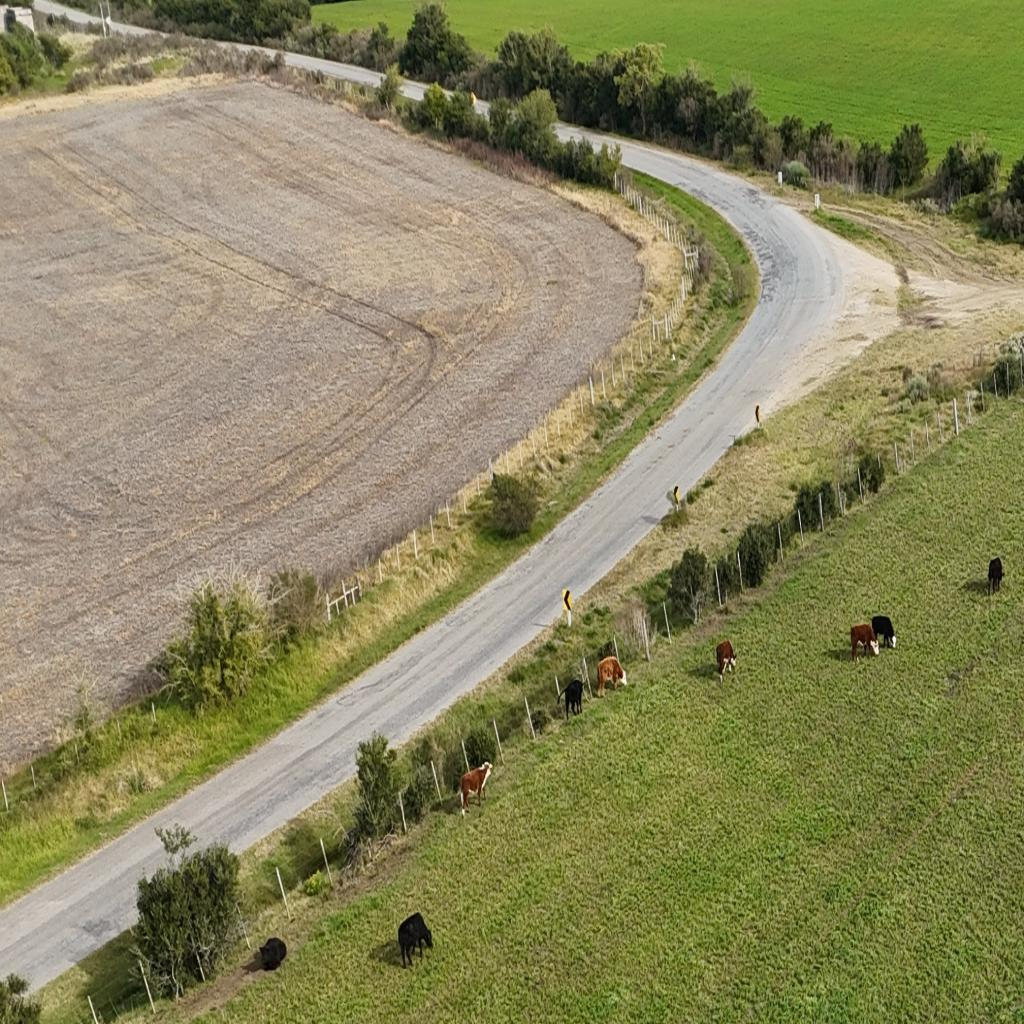cow: (458, 762, 492, 810), (401, 912, 433, 956), (848, 621, 881, 659), (555, 678, 584, 721), (596, 656, 627, 690), (258, 937, 286, 972), (716, 639, 738, 682), (873, 614, 897, 648), (987, 557, 1004, 596)
